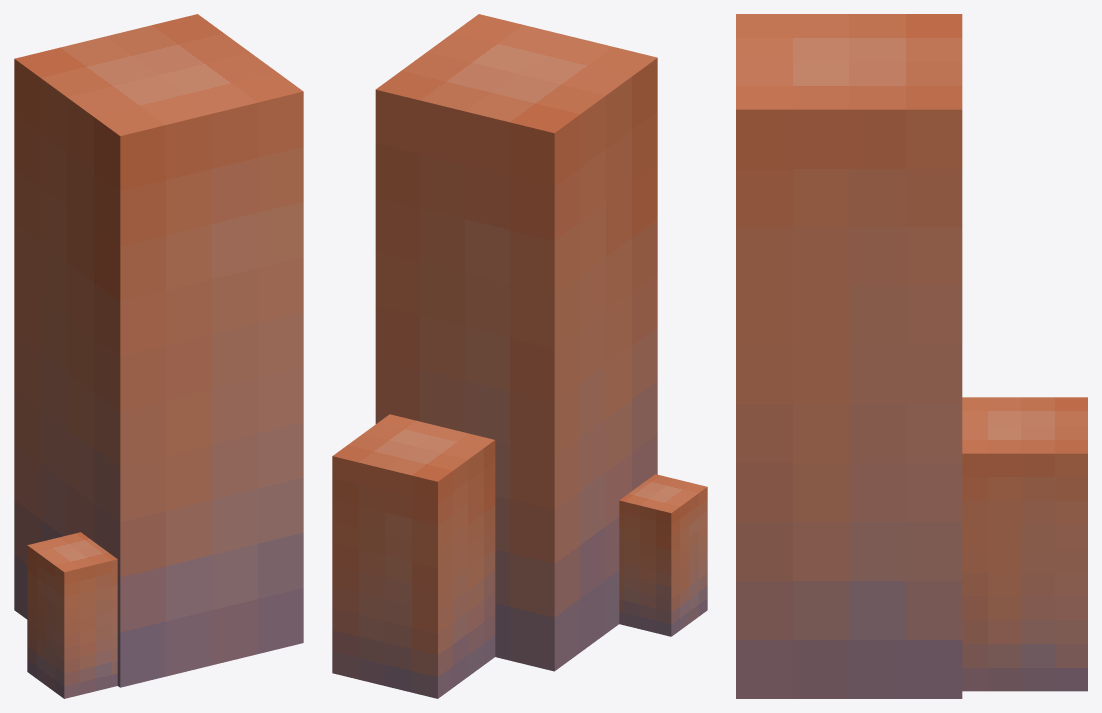
The model's file is sphalerite_crystal_three.obj.
The picture shows the model from 3 angles, left to right: view 1: azimuth 30°, elevation 25°; view 2: azimuth 150°, elevation 25°; view 3: azimuth 270°, elevation 25°; orthographic projection. The views are drawn at different scales.
Visible parts, largest first — view 1: Crystal5_Cube.008; view 2: Crystal5_Cube.008; view 3: Crystal5_Cube.008.
Boxes of the visible parts, x1,y1,x2,y2 form: Crystal5_Cube.008: [14, 14, 303, 698]; Crystal5_Cube.008: [332, 14, 707, 698]; Crystal5_Cube.008: [736, 14, 1087, 698].
Size of the model in its own units: 0.1959 by 0.4361 by 0.2358.
